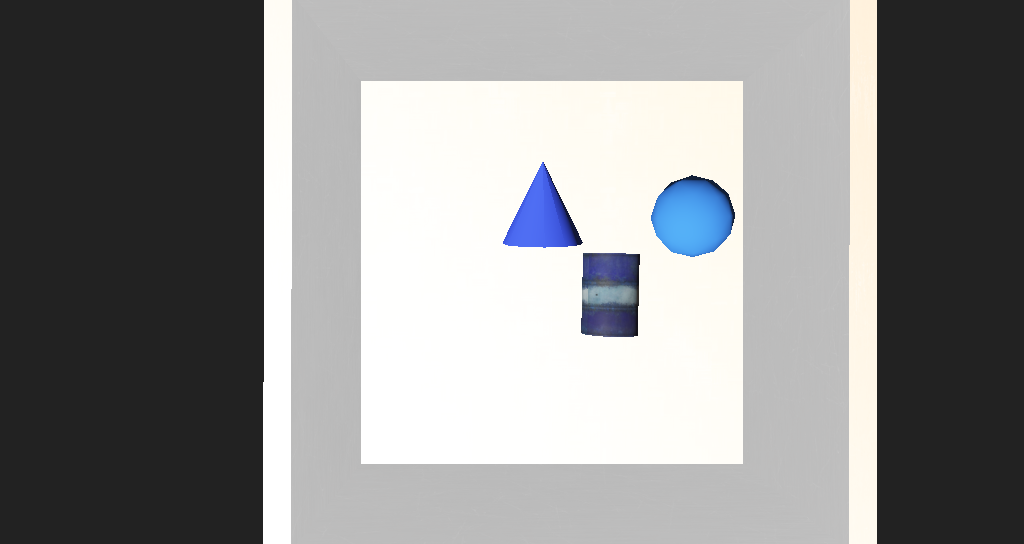cone: (529, 258, 576, 305)
cylinder: (468, 203, 529, 255)
sphere: (579, 217, 647, 260)
